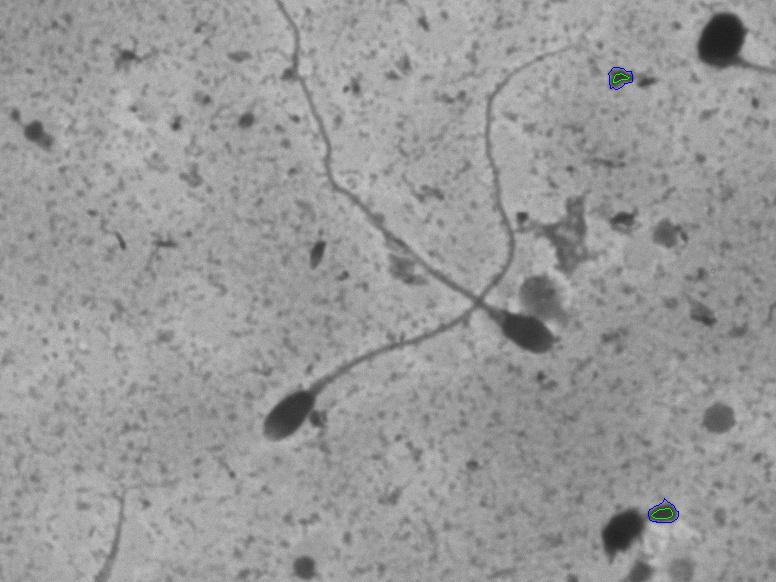Normal: (234, 31, 602, 463), (264, 10, 566, 367)
